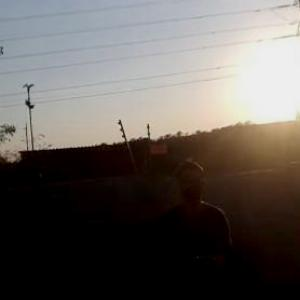follow: (151, 148, 236, 299)
